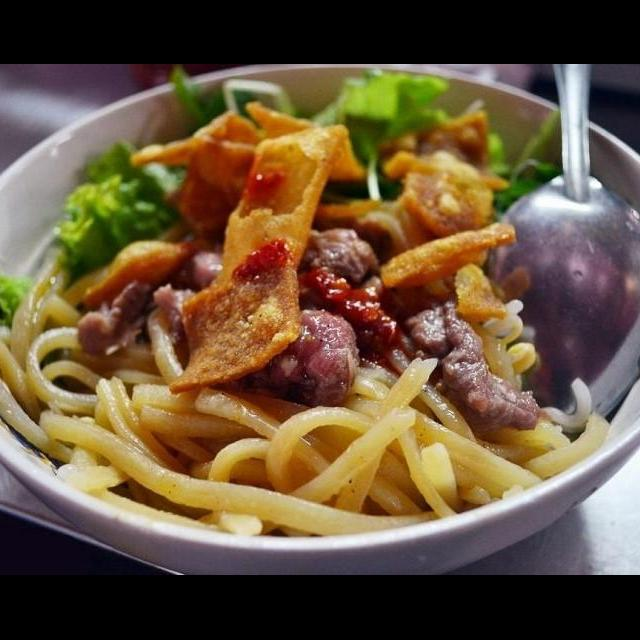banh da: (206, 118, 376, 300), (363, 106, 514, 282), (297, 192, 498, 318), (164, 232, 308, 398), (123, 104, 277, 243)
mi: (32, 352, 617, 552), (0, 240, 197, 511)
mi quang: (0, 91, 640, 575)
thit heo: (73, 232, 228, 364), (402, 294, 545, 434), (284, 222, 404, 356), (252, 304, 364, 414)
